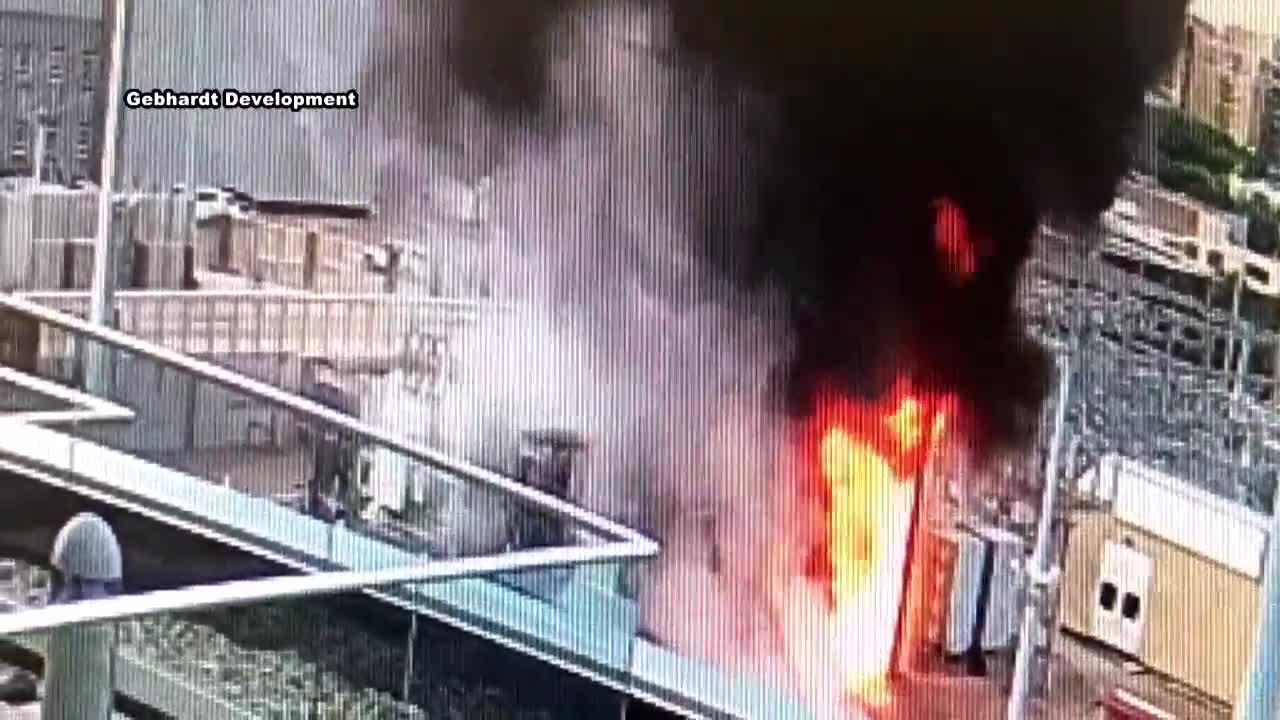Fire: (751, 353, 953, 708)
